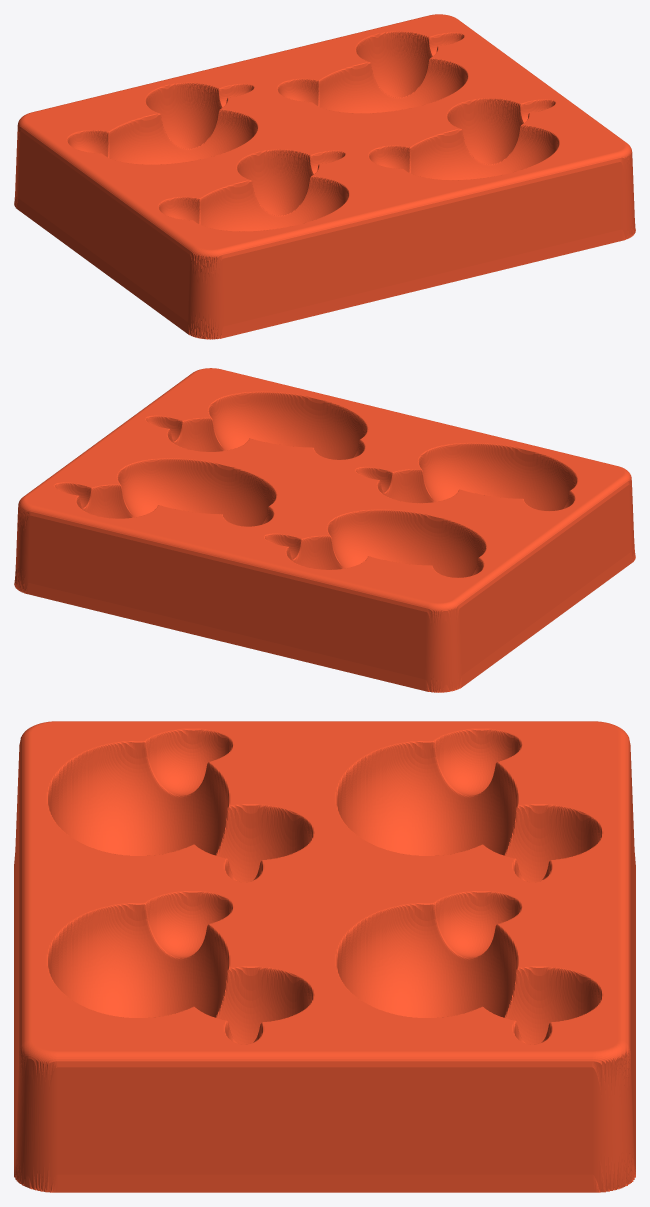
Rendered from mold.glb.
The picture shows the model from 3 angles, top to bottom: view 1: azimuth 30°, elevation 25°; view 2: azimuth 150°, elevation 25°; view 3: azimuth 270°, elevation 25°; orthographic projection. The views are drawn at different scales.
Visible parts, largest first — view 1: geometry_0; view 2: geometry_0; view 3: geometry_0.
Part boxes in pixels (left/top/right/bottom): geometry_0: left=14, top=14, right=635, bottom=339; geometry_0: left=14, top=368, right=635, bottom=692; geometry_0: left=14, top=721, right=635, bottom=1192.
Bounding box in the file's own units: 0.1699 × 0.031 × 0.13.
